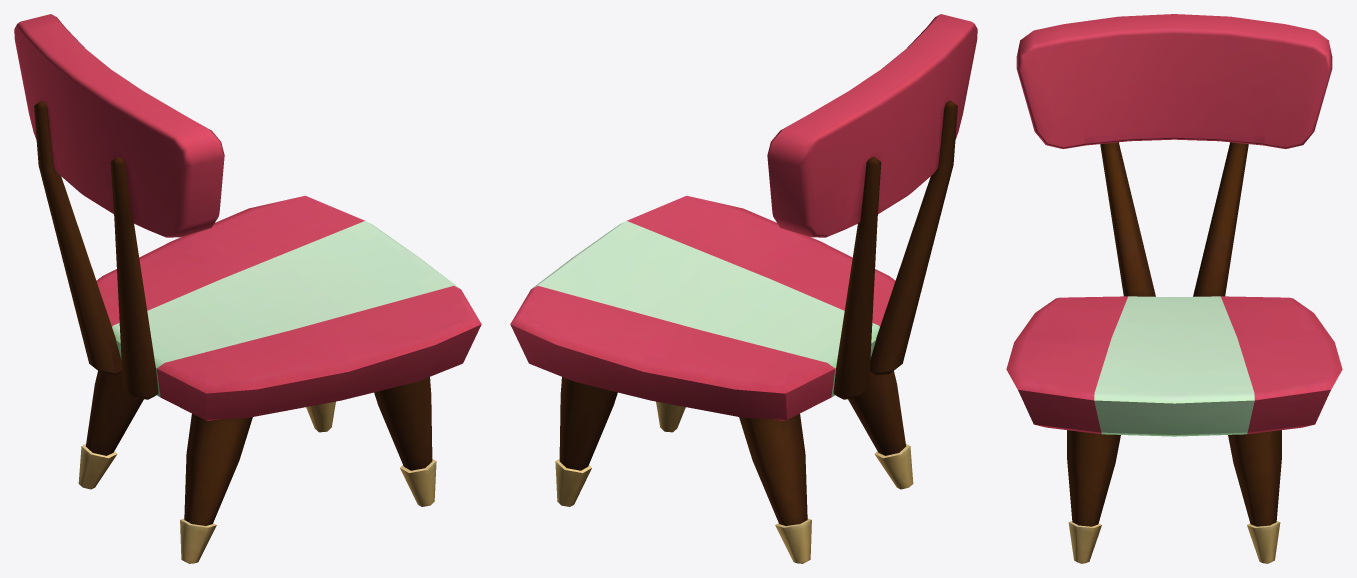
The model's file is KitchenChair.fbx.
The picture shows the model from 3 angles, left to right: view 1: azimuth 30°, elevation 25°; view 2: azimuth 150°, elevation 25°; view 3: azimuth 270°, elevation 25°; orthographic projection. The views are drawn at different scales.
Visible parts, largest first — view 1: KitchenChair; view 2: KitchenChair; view 3: KitchenChair.
Part boxes in pixels (<box>): KitchenChair: <box>14,14,481,563</box>; KitchenChair: <box>510,14,977,563</box>; KitchenChair: <box>1006,14,1342,563</box>.
Size of the model in its own units: 58.74 by 75.55 by 54.91.
Materials: 1 (1 with a texture image).
